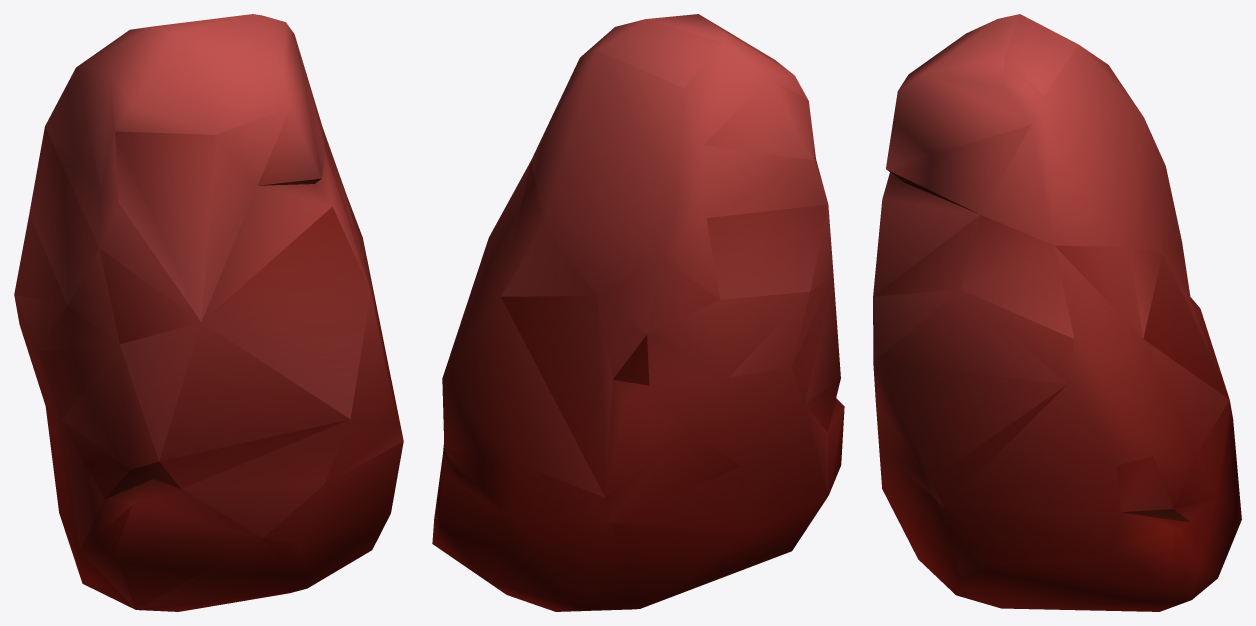
Rendered from Crystal_Stone_02.FBX.
3 views of the same model, side by side, from view 1: azimuth 30°, elevation 25°; view 2: azimuth 150°, elevation 25°; view 3: azimuth 270°, elevation 25° (orthographic). The views are drawn at different scales.
Visible parts, largest first — view 1: Floating_Rock_1_Big_0_1.070; view 2: Floating_Rock_1_Big_0_1.070; view 3: Floating_Rock_1_Big_0_1.070.
Boxes of the visible parts, bbox=[...] form: Floating_Rock_1_Big_0_1.070: bbox=[14, 14, 403, 611]; Floating_Rock_1_Big_0_1.070: bbox=[432, 14, 844, 611]; Floating_Rock_1_Big_0_1.070: bbox=[873, 14, 1241, 611].
Size of the model in its own units: 173 by 273 by 174.
